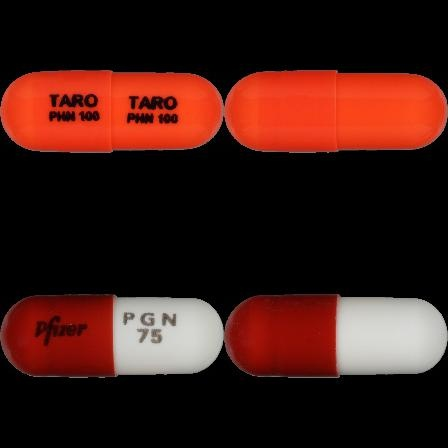54868-5534: (0, 0, 224, 224)
